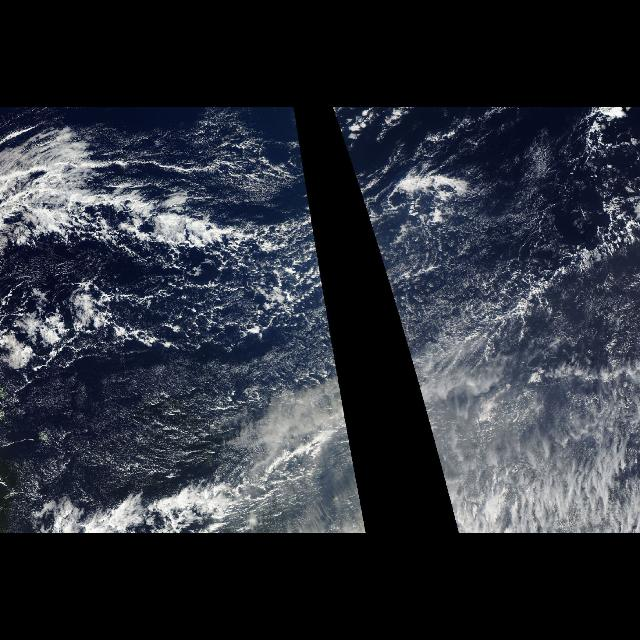Fish: (3, 164, 320, 260), (351, 164, 459, 260)
Gravel: (4, 220, 334, 344), (371, 232, 474, 314)
Sugar: (377, 144, 639, 530), (6, 286, 352, 492)
